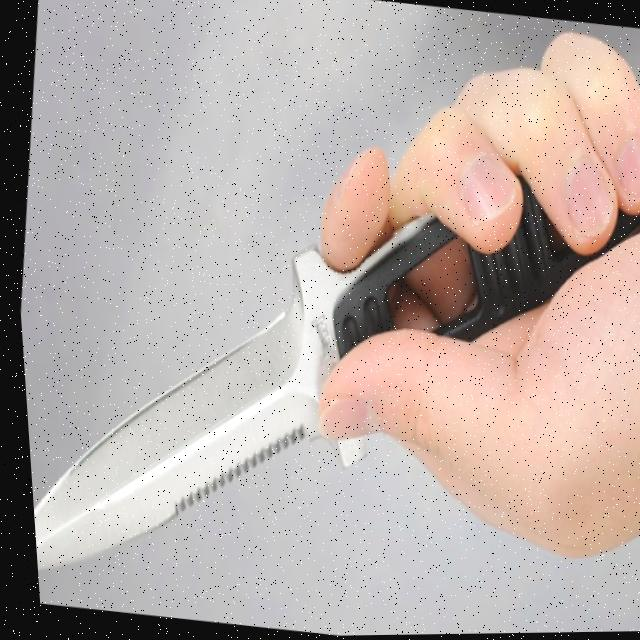knife: (1, 17, 640, 640)
